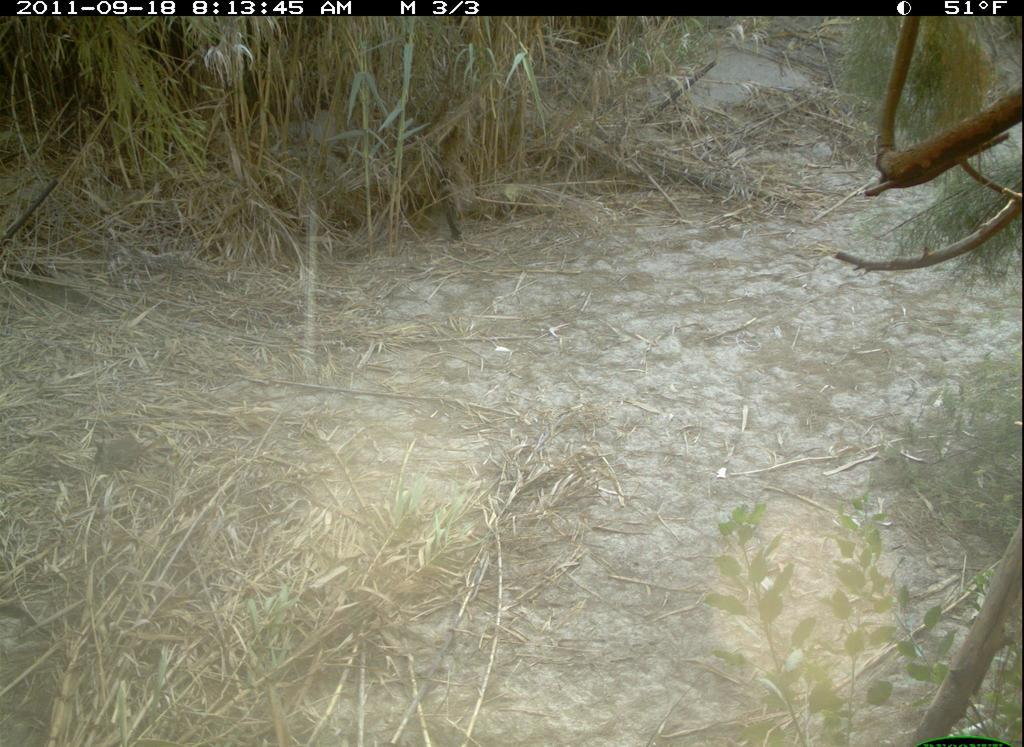rabbit: (88, 434, 153, 477)
